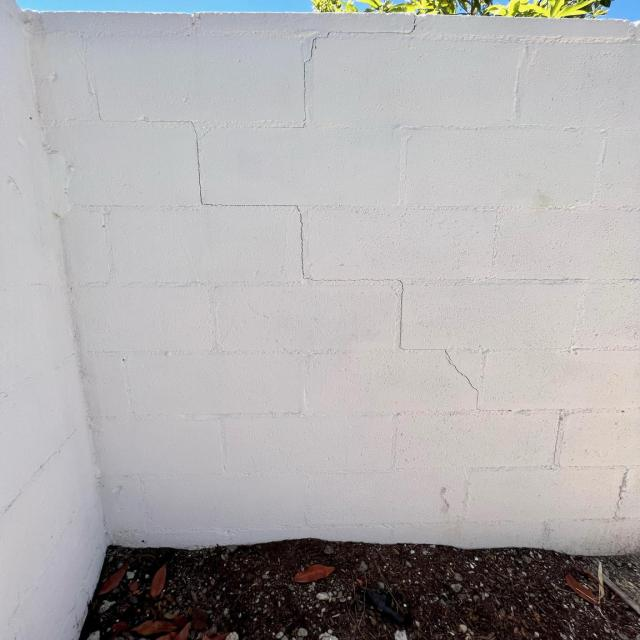Crack: (89, 62, 485, 398), (290, 13, 422, 128)
